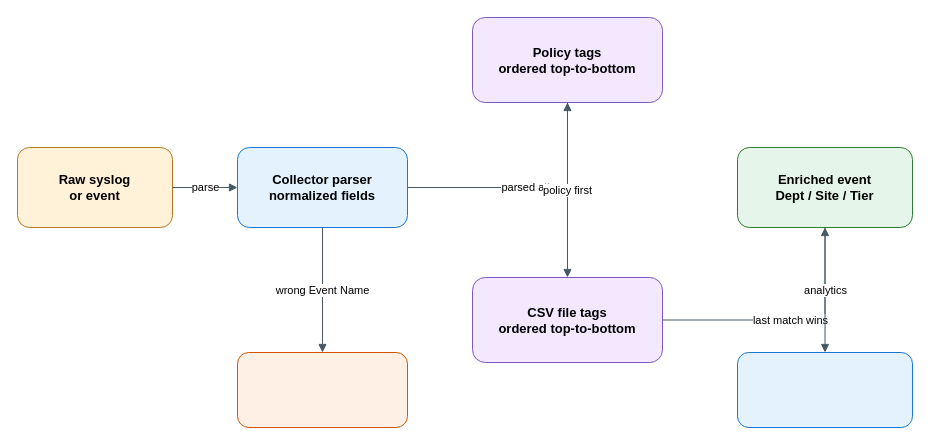
The diagram is 930 pixels wide and 445 high, and some of its shapes have lost their labels. The shapes that lost their labels are listed below. From the top down, each one's centre as x and y in pixels, then its label:
At [322,390]: "Parser collision before tagging".
At [824,390]: "Rules / reports consume tags".
